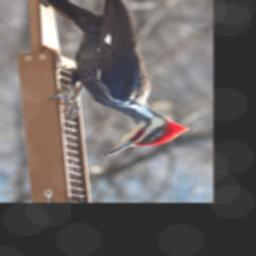Woodpecker: (29, 0, 191, 158)
